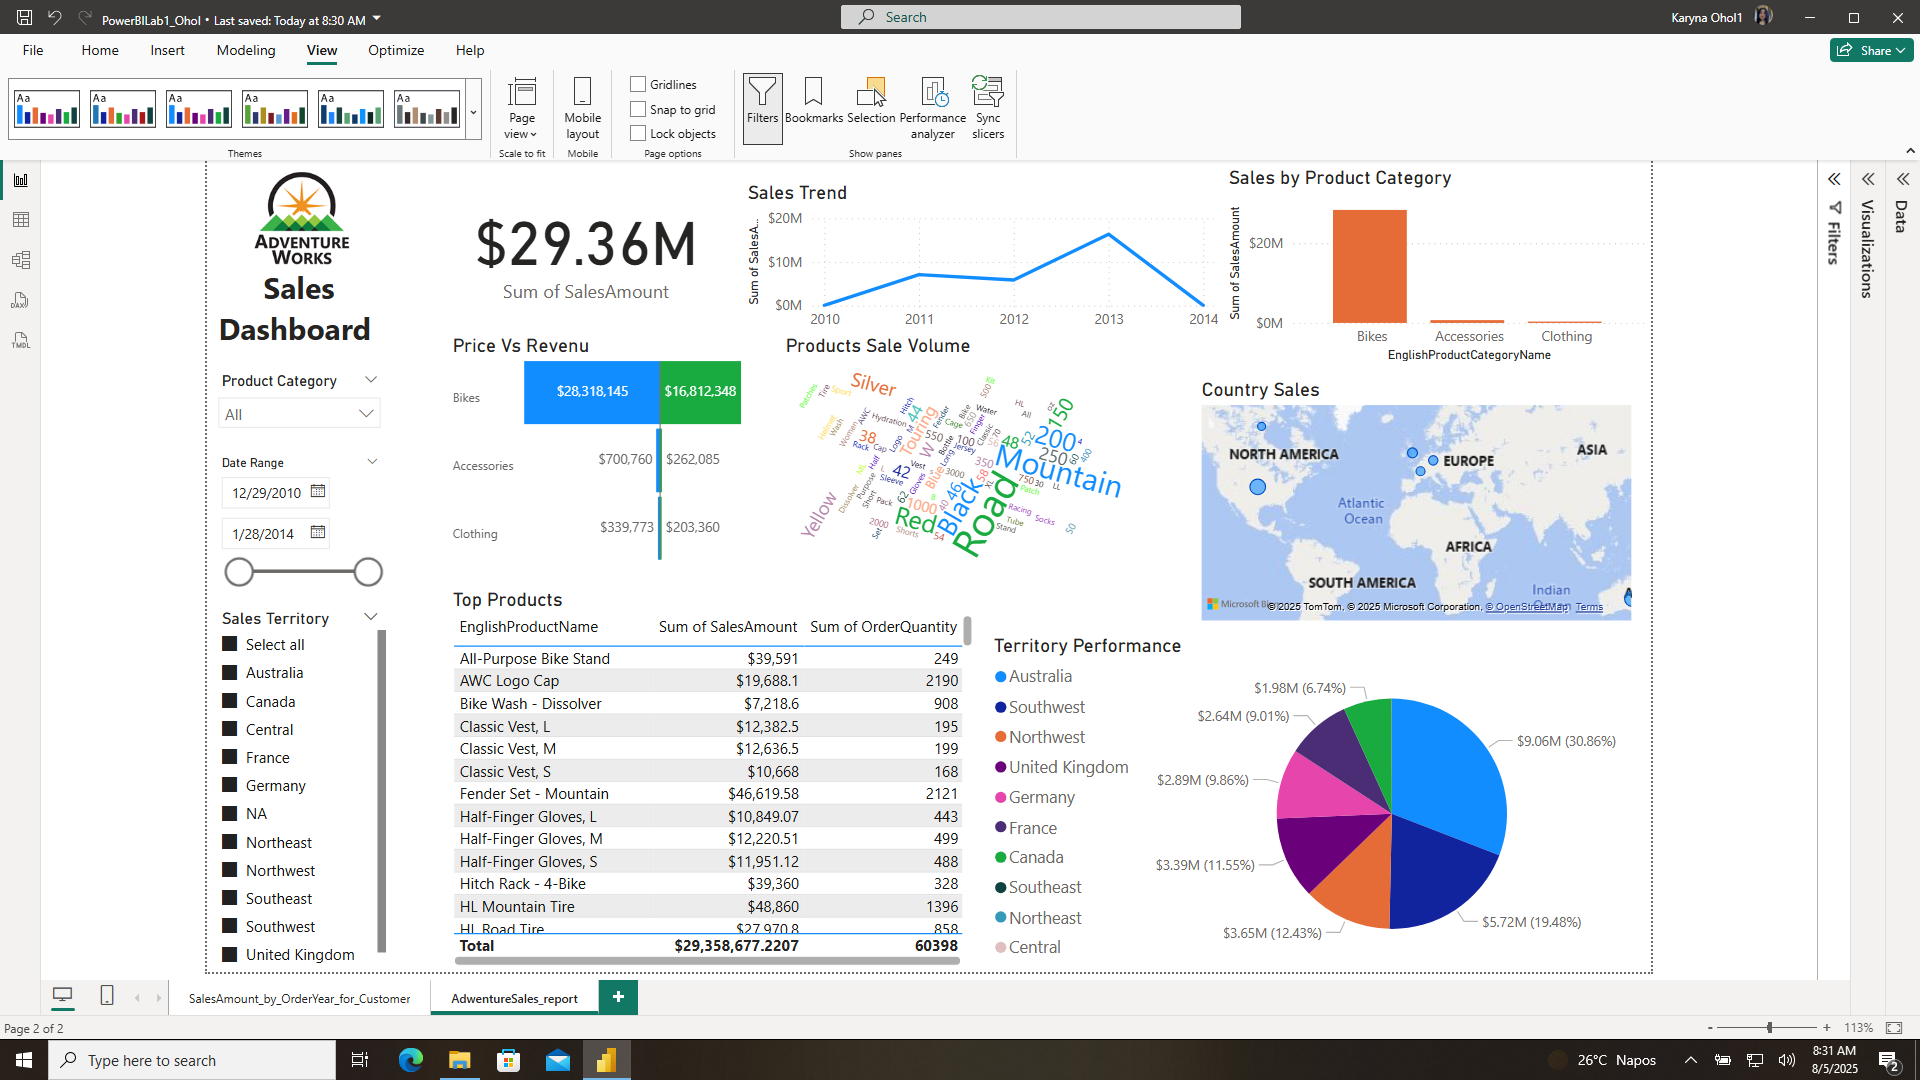

The dashboard page shown, as its layout file describes it:
{"tool":"powerbi","page":{"name":"AdwentureSales_report","canvas":[1280,720],"ordinal":1},"visuals":[{"type":"textbox","box":[0,89.5,155.5,94.3],"z":0},{"type":"image","box":[3.8,0,160.2,102.7],"z":1000},{"type":"slicer","fields":{"Values":["DimProductCategory.EnglishProductCategoryName"]},"box":[0,183.8,164,66],"z":2000},{"type":"slicer","fields":{"Values":["DimSalesTerritory.SalesTerritoryRegion"]},"box":[0,394,164,326.1],"z":3000},{"type":"slicer","fields":{"Values":["FactInternetSales.OrderDate"]},"box":[0,257.3,164,122.5],"z":4000},{"type":"clusteredColumnChart","title":"Sales by Product Category","fields":{"Category":["DimProductCategory.EnglishProductCategoryName"],"Y":["Sum(FactInternetSales.SalesAmount)"]},"box":[901.1,5.7,378.9,178.1],"z":5000},{"type":"card","fields":{"Values":["Sum(FactInternetSales.SalesAmount)"]},"box":[223.4,26.4,225.3,102.7],"z":6000},{"type":"lineChart","title":"Sales Trend","fields":{"Category":["FactInternetSales.OrderDate.Variation.Date Hierarchy.Year","FactInternetSales.OrderDate.Variation.Date Hierarchy.Quarter","FactInternetSales.OrderDate.Variation.Date Hierarchy.Month","FactInternetSales.OrderDate.Variation.Date Hierarchy.Day"],"Y":["Sum(FactInternetSales.SalesAmount)"]},"box":[474.1,18.9,427,140.4],"z":7000},{"type":"pieChart","title":"Territory Performance","fields":{"Category":["DimSalesTerritory.SalesTerritoryRegion"],"Y":["Sum(FactInternetSales.SalesAmount)"]},"box":[692.8,420.4,587.2,299.7],"z":8000},{"type":"tableEx","title":"Top Products","fields":{"Values":["DimProduct.EnglishProductName","Sum(FactInternetSales.SalesAmount)","Sum(FactInternetSales.OrderQuantity)"]},"box":[213,379.9,471.3,340.3],"z":9000},{"type":"map","title":"Country Sales ","fields":{"Category":["DimSalesTerritory.SalesTerritoryCountry"],"Size":["Sum(FactInternetSales.SalesAmount)"]},"box":[876.6,193.2,391.2,219.6],"z":10000},{"type":"TornadoChart1452517688218","title":"Price Vs Revenu","fields":{"Category":["DimProductCategory.EnglishProductCategoryName"],"Values":["Sum(FactInternetSales.SalesAmount)","Sum(FactInternetSales.TotalProductCost)"]},"box":[213,154.6,329,225.3],"z":11000},{"type":"WordCloud1447959067750","title":"Products Sale Volume","fields":{"Values":["Sum(FactInternetSales.SalesAmount)"],"Category":["DimProduct.EnglishProductName"]},"box":[508,154.6,368.5,239.4],"z":12000}]}

Visuals, with their boxes on the page's 1280x720 design canvas (x1, y1, x2, y2). These are canvas units, not pixel positions in the 1920x1080 screenshot, which may show the page scaled, cropped or inside an application window:
textbox: select_region(0, 90, 156, 184)
image: select_region(4, 0, 164, 103)
slicer - DimProductCategory.EnglishProductCategoryName: select_region(0, 184, 164, 250)
slicer - DimSalesTerritory.SalesTerritoryRegion: select_region(0, 394, 164, 720)
slicer - FactInternetSales.OrderDate: select_region(0, 257, 164, 380)
"Sales by Product Category" clusteredColumnChart: select_region(901, 6, 1280, 184)
card - Sum(FactInternetSales.SalesAmount): select_region(223, 26, 449, 129)
"Sales Trend" lineChart: select_region(474, 19, 901, 159)
"Territory Performance" pieChart: select_region(693, 420, 1280, 720)
"Top Products" tableEx: select_region(213, 380, 684, 720)
"Country Sales " map: select_region(877, 193, 1268, 413)
"Price Vs Revenu" TornadoChart1452517688218: select_region(213, 155, 542, 380)
"Products Sale Volume" WordCloud1447959067750: select_region(508, 155, 876, 394)
